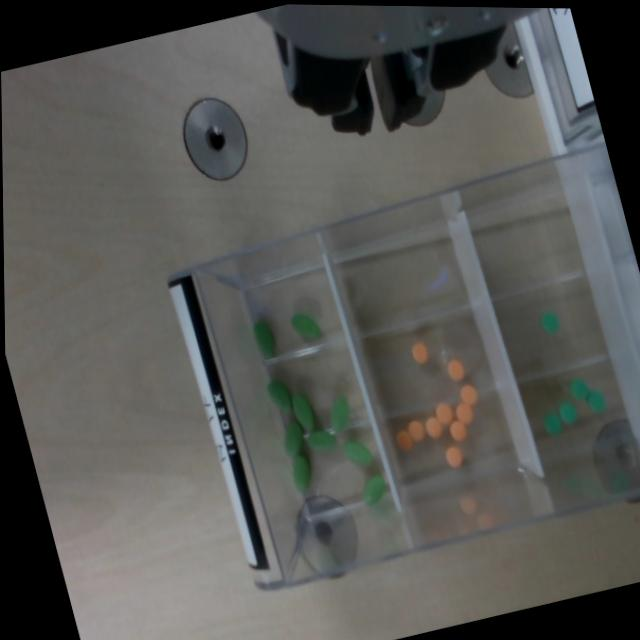famodine: (538, 310, 561, 336), (541, 411, 563, 437), (556, 399, 579, 423), (567, 378, 589, 402), (586, 390, 606, 413)
otillen_tab: (339, 437, 374, 473), (287, 310, 322, 344), (289, 391, 316, 435), (323, 394, 353, 432), (250, 319, 277, 361), (356, 473, 388, 508), (287, 453, 314, 493), (277, 420, 306, 457), (265, 380, 293, 416), (303, 427, 337, 455)
samsung_octylonium_tab: (454, 400, 475, 425), (393, 429, 414, 453), (433, 401, 454, 424), (424, 415, 444, 438), (405, 418, 425, 441), (409, 340, 428, 364), (447, 419, 467, 441), (444, 445, 463, 468), (445, 358, 464, 381), (458, 381, 477, 404)
